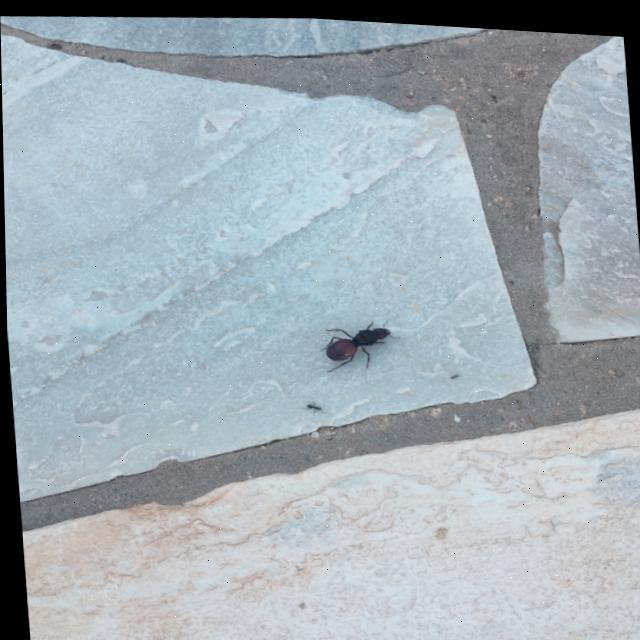Alive-Female-Dealate: (317, 311, 402, 373)
